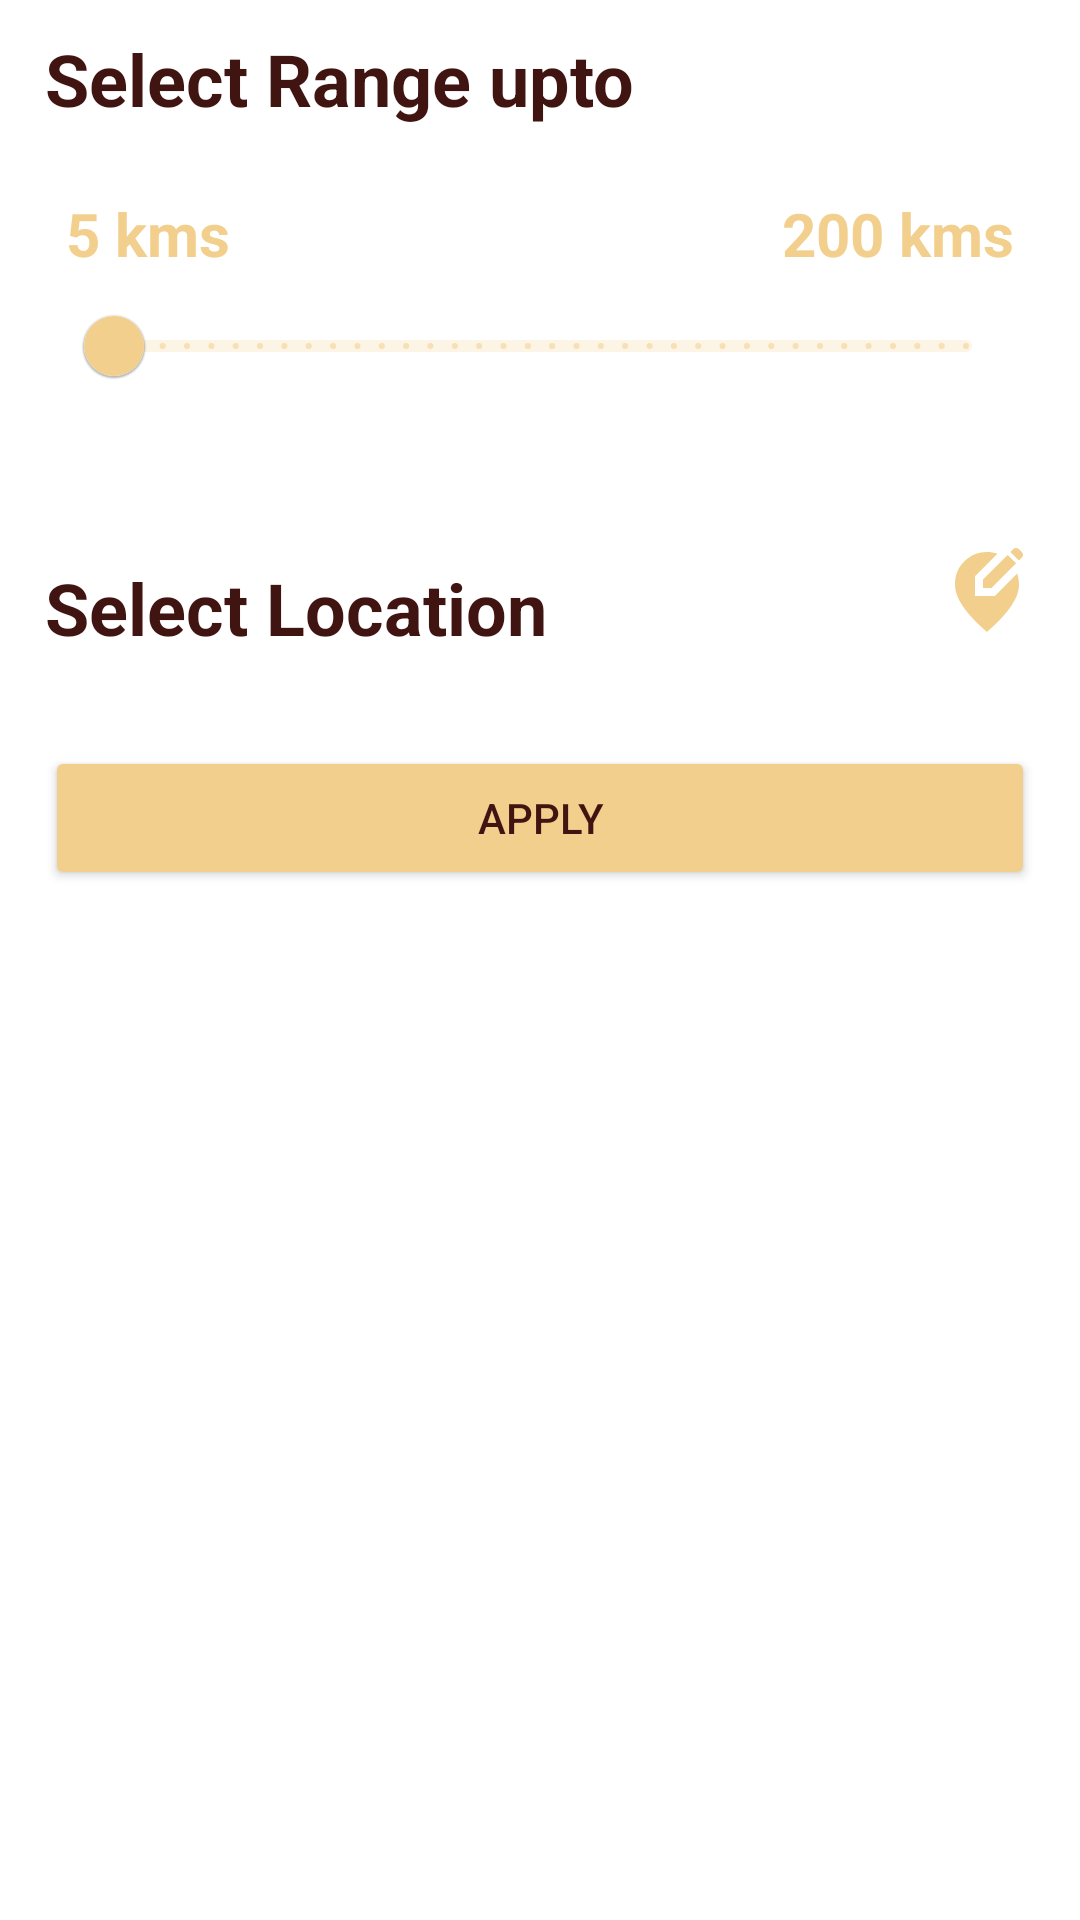

Where to tap for icons on this 1080*1920 app screen, as (x=x, y=y):
edit location: (x=989, y=590)
